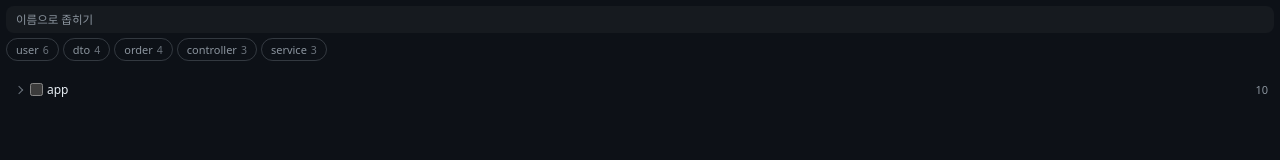
Test: 빈 상태 › 좁혀서 하나도 안 남으면 「찾은 것이 없습니다」
In the search field with placeholder "이름으로 좁히기": (640, 20) [6, 6, 1274, 33], type "없는이름"
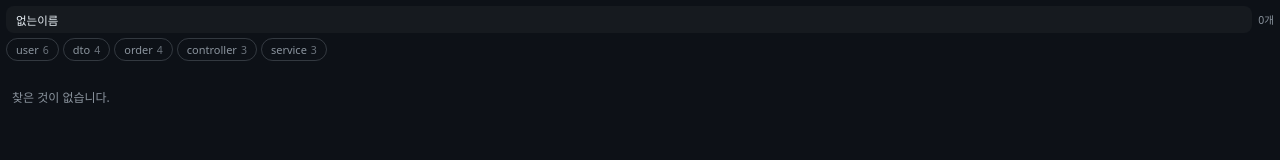
Result: the text "찾은 것이 없습니다." is shown at [12, 89, 110, 106]
